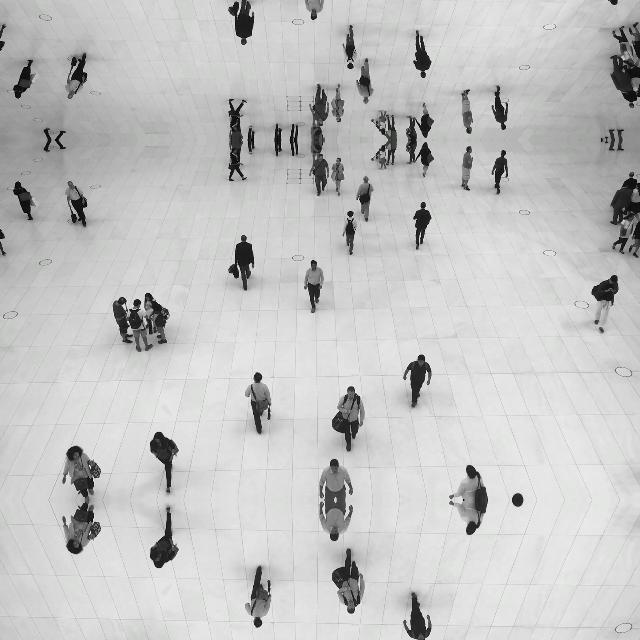person: (149, 431, 179, 493), (149, 507, 179, 569), (337, 386, 365, 452), (337, 548, 365, 614), (62, 446, 96, 500), (62, 500, 96, 554), (244, 372, 272, 434), (244, 566, 272, 628), (591, 275, 619, 333), (402, 354, 432, 408), (318, 458, 354, 500), (318, 500, 354, 542), (402, 592, 431, 640), (127, 300, 153, 352), (449, 464, 485, 500), (449, 500, 485, 536), (234, 235, 254, 291), (64, 181, 88, 227), (64, 53, 88, 99), (304, 259, 324, 313), (112, 296, 134, 344), (412, 202, 432, 250), (412, 30, 432, 78), (308, 153, 329, 197), (613, 212, 635, 254), (308, 83, 329, 127), (613, 26, 635, 68), (234, 0, 254, 45), (12, 181, 34, 221), (150, 300, 170, 344), (12, 59, 34, 99), (610, 54, 632, 94), (610, 187, 632, 226), (356, 176, 374, 222), (356, 58, 374, 104), (342, 210, 358, 256), (342, 24, 358, 70), (492, 150, 508, 194), (492, 86, 508, 130), (228, 147, 248, 181), (228, 99, 248, 133), (416, 142, 434, 178), (416, 102, 434, 138), (143, 292, 157, 336), (330, 158, 346, 196), (330, 84, 346, 122), (461, 146, 474, 190), (461, 90, 474, 134), (628, 214, 640, 258), (628, 22, 640, 66), (628, 183, 640, 221), (628, 59, 640, 97), (310, 140, 326, 168), (310, 112, 326, 140), (303, 0, 324, 21), (372, 144, 388, 170), (382, 140, 398, 166), (372, 110, 388, 136), (382, 114, 398, 140), (620, 171, 638, 189), (620, 91, 638, 109), (405, 140, 417, 164), (405, 116, 417, 140), (229, 140, 243, 160), (229, 120, 243, 140), (44, 140, 66, 152), (44, 128, 66, 140), (608, 140, 624, 152), (608, 128, 624, 140), (0, 228, 6, 256), (0, 24, 6, 52), (591, 0, 619, 5), (274, 140, 282, 156), (290, 140, 298, 156), (274, 124, 282, 140), (290, 124, 298, 140), (247, 140, 255, 154), (247, 126, 255, 140), (512, 492, 524, 500), (512, 500, 524, 508)
